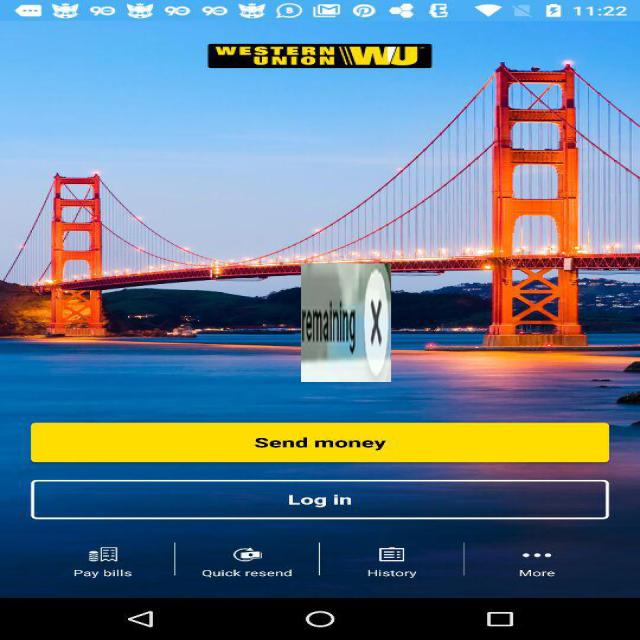misdirection: (301, 263, 391, 382)
